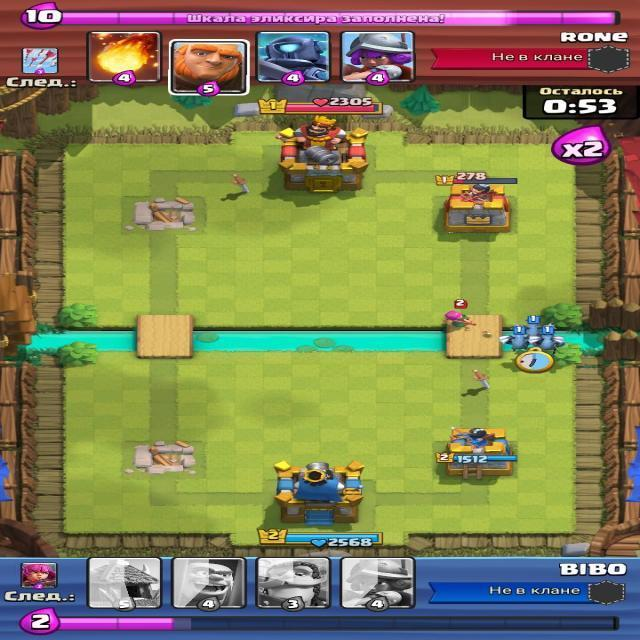EArcher: (445, 307, 473, 332)
EKingTower: (277, 131, 367, 190)
EnemyPrincessTower: (446, 183, 507, 236)
OwnKingTower: (274, 461, 365, 523)
OwnPrincessTower: (447, 433, 516, 480)
TowerDown: (125, 434, 210, 483), (123, 195, 204, 235)
ominion: (506, 328, 529, 353), (536, 333, 561, 354), (525, 320, 542, 337)
